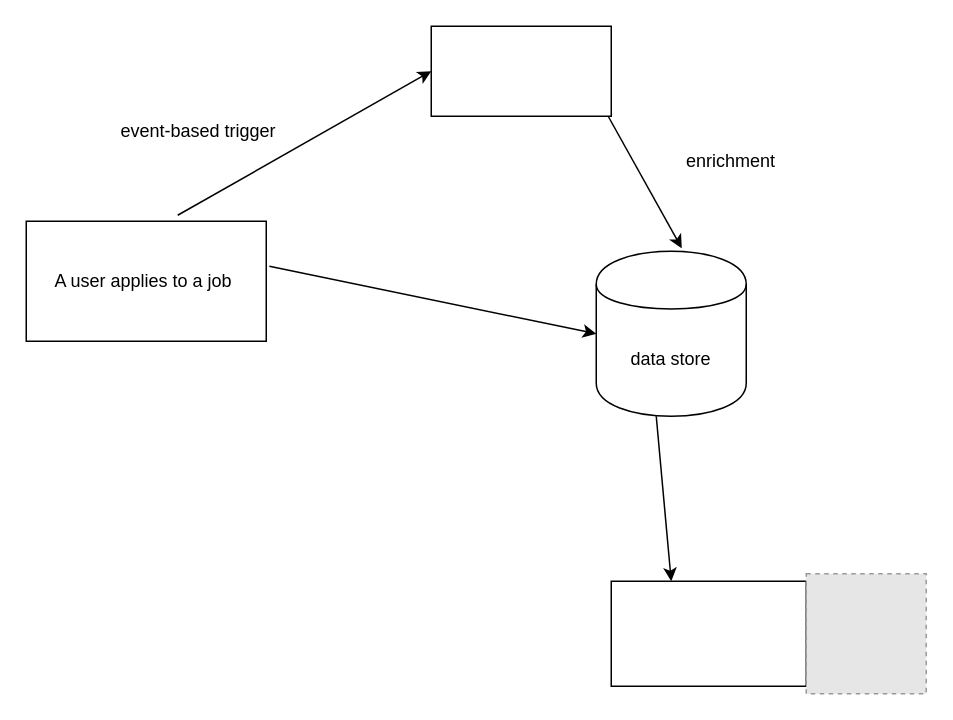
Image size: 953x720. Some labels were removed from this diagram. Grey dashed boxes stand in for pictures. The centre of each missing label's shape, as x and y in pixels:
360 Job Search: the point at 708,633
Machine Learning: the point at 520,70
